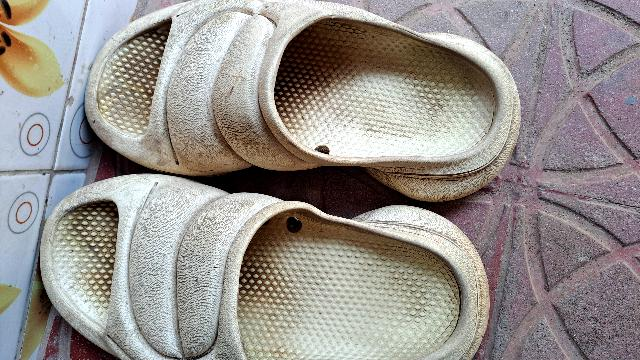sandal: (43, 0, 521, 215), (20, 186, 493, 360)
